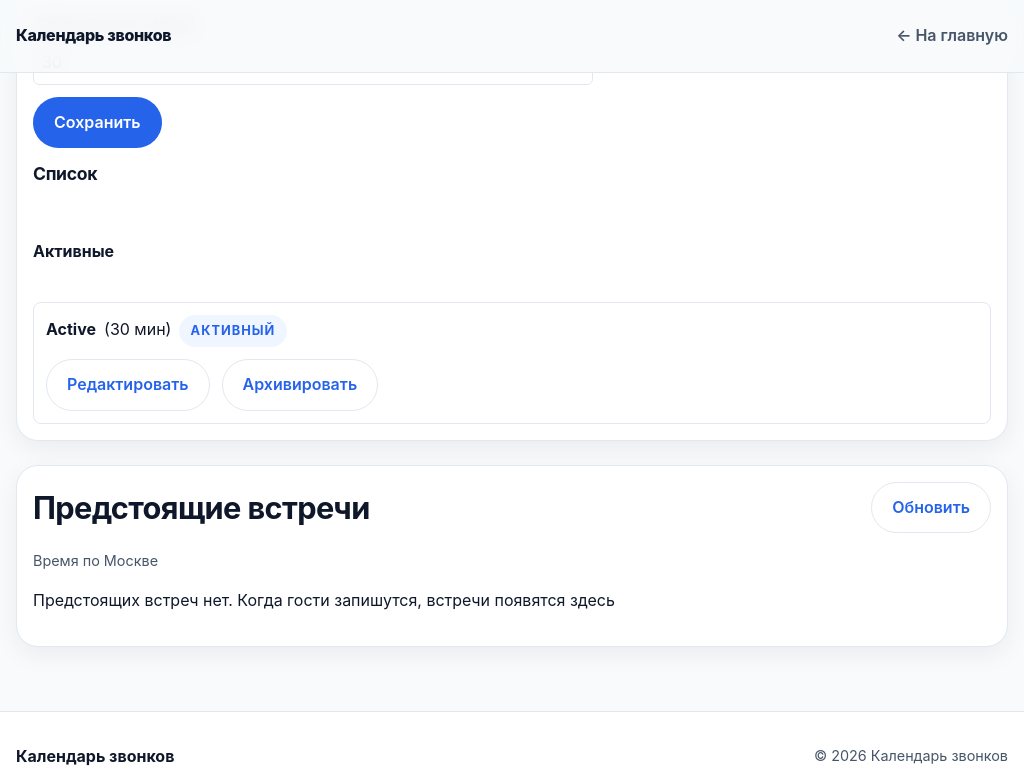
Test: AdminPage › asks for inline confirmation with warning and manages focus
(page scrolled)
Expected: the text "Active" is shown, [46,317,96,342]
Click the button "Архивировать" at (300, 385), box [222,359,378,411]
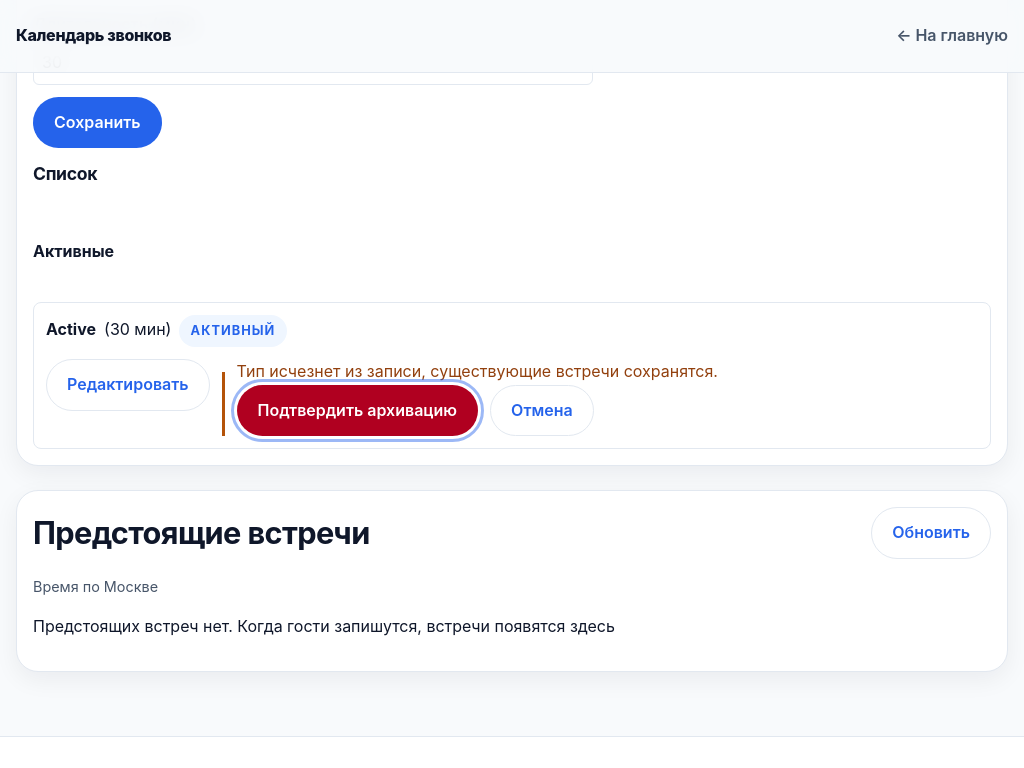
Now the text "Тип исчезнет из записи, существующие встречи сохранятся." is shown, box [237,359,718,385]
Click the button "Отмена" at (542, 410), box [490,385,594,436]
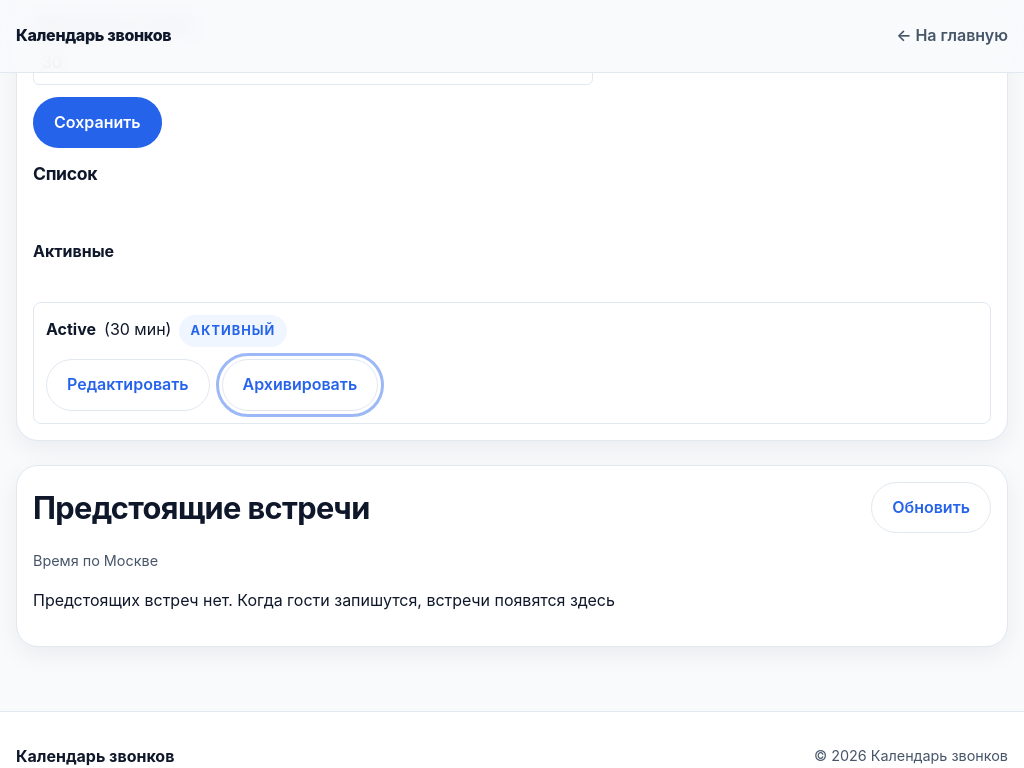
Now the button "Подтвердить архивацию" is gone
